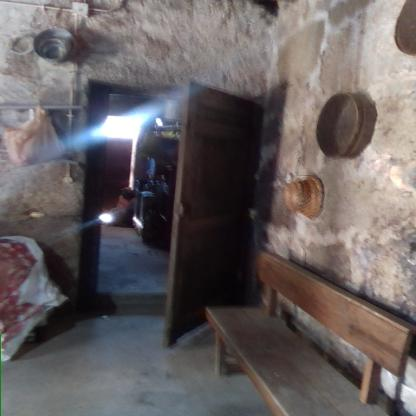closed: (85, 73, 268, 354)
